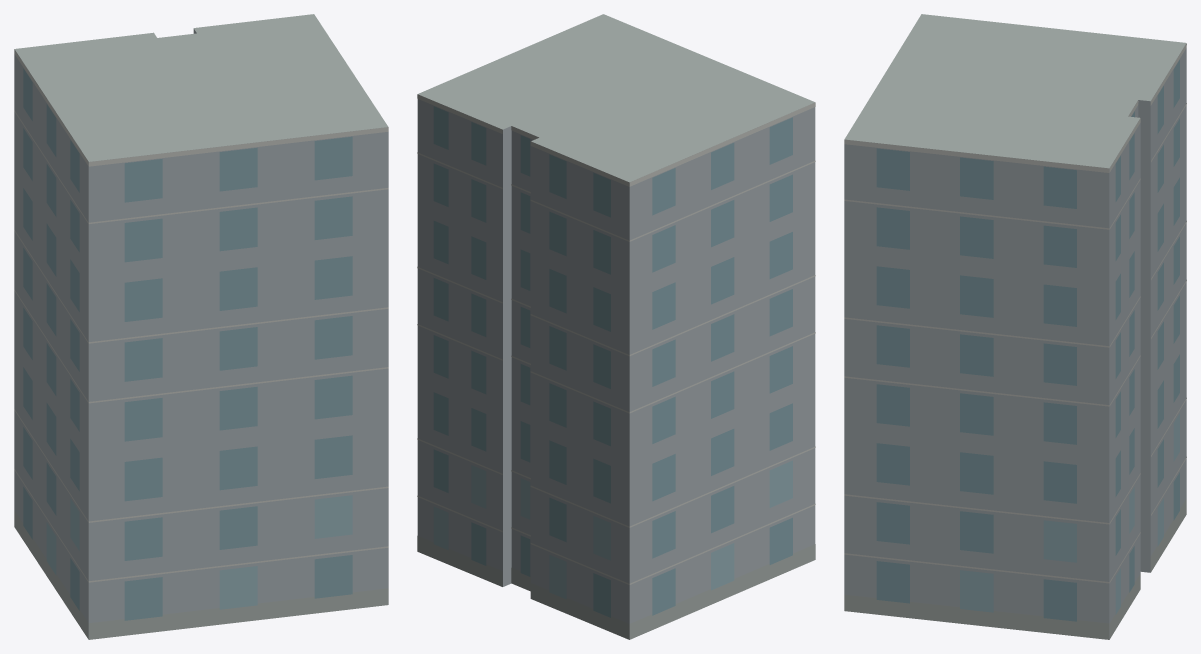
File: survey-upis-32749430.glb
3 renders of one model, left to right at view 1: azimuth 30°, elevation 25°; view 2: azimuth 150°, elevation 25°; view 3: azimuth 270°, elevation 25°, orthographic. The views are drawn at different scales.
Parts seen in each view (by area): view 1: survey-upis-32749430.tmp; view 2: survey-upis-32749430.tmp; view 3: survey-upis-32749430.tmp.
Part boxes in pixels (box(x1,y1,x2,y2)): survey-upis-32749430.tmp: box(14, 14, 388, 639); survey-upis-32749430.tmp: box(417, 14, 815, 639); survey-upis-32749430.tmp: box(844, 14, 1186, 639).
Bounding box in the file's own units: 17.15 × 24.4 × 16.08.
